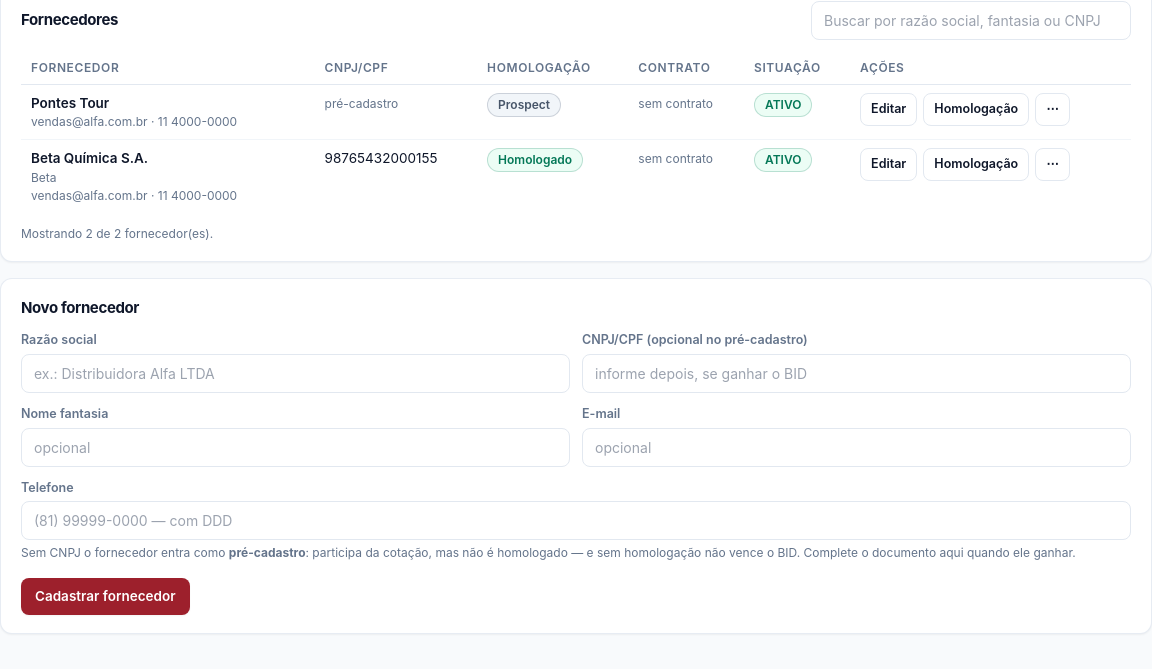
<Fornecedores /> › trocar de fornecedor troca o painel: o homologado não aparece como prospect
The width and height of the screenshot is (1152, 669).
Expected: the table with test id "tabela-fornecedores" is shown, [21,52,1131,212]
Step 1. Click the button "Homologação" in the row of "Pontes Tour" → (976, 109), box [923,93,1029,126]
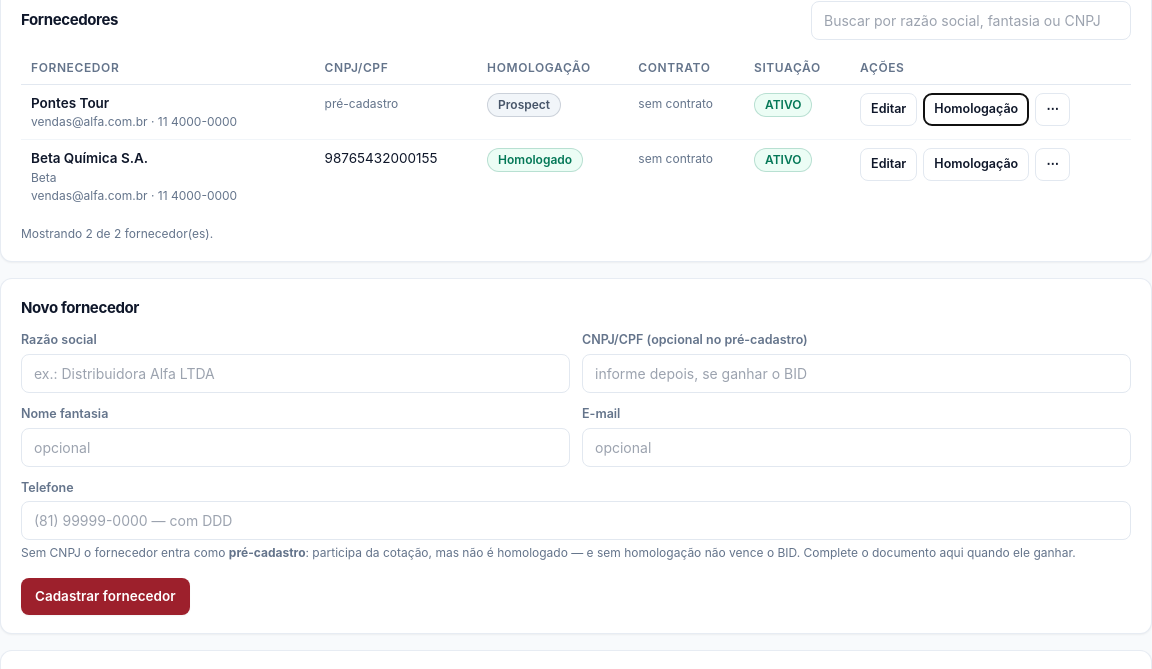
Step 2. Click the button "Homologação" in the row of "Beta Química S.A." → (976, 165), box [923,148,1029,181]
(page scrolled)
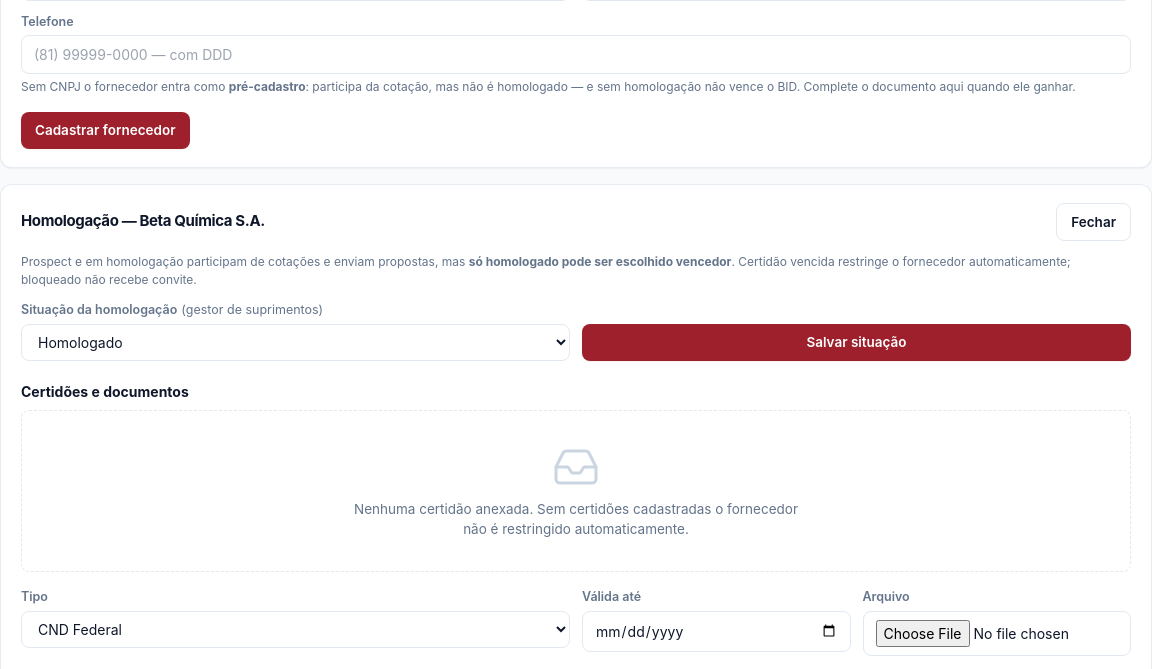
Now the heading "Homologação — Beta Química S.A." is shown, box [21,210,265,233]
Now the dropdown labelled "Situação da homologação(gestor de suprimentos)" shows "Homologado", box [21,324,570,360]
